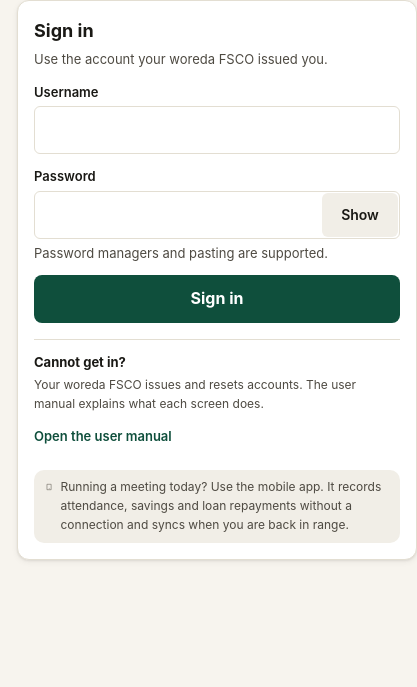
Test: SignInCard › never fails silently
The width and height of the screenshot is (417, 687).
Type "wlt1" into the field labelled "Username" at (217, 130), box [34,106,400,154]
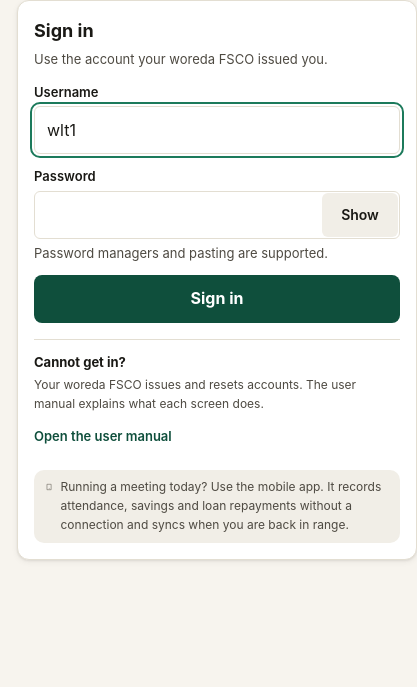
Type "pw" into the password field labelled "Password" at (217, 214), box [34,190,400,238]
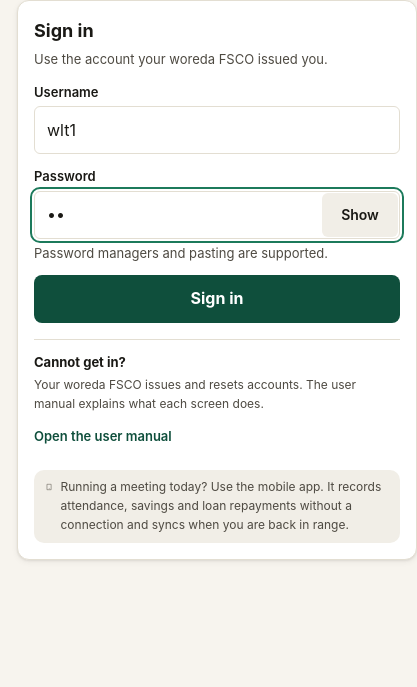
Click the button "Sign in" at (217, 299), box [34,275,400,323]
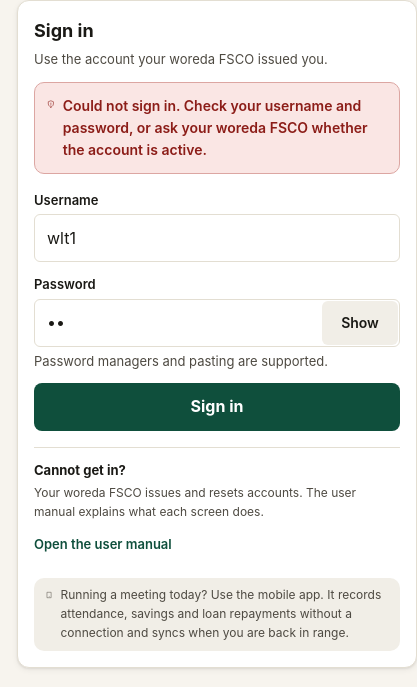
Expected: the message shows "Could not sign in", [63,97,368,158]
